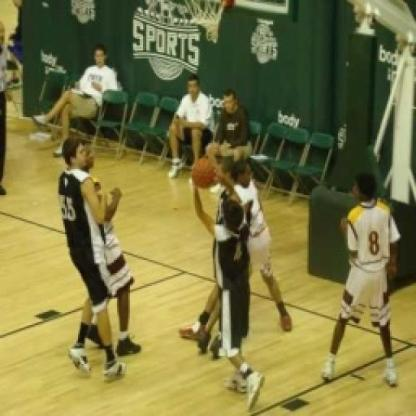basketball: (189, 158, 222, 190)
